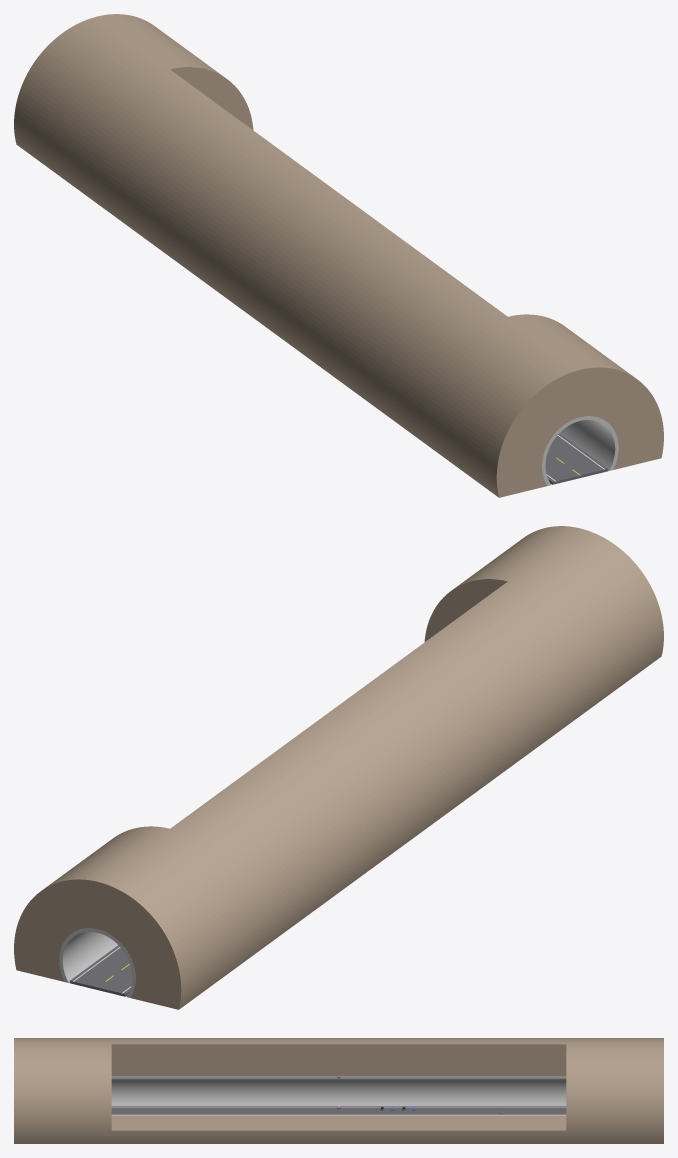
The model's file is tunnel.glb.
3 views of the same model, one above another, from view 1: azimuth 30°, elevation 25°; view 2: azimuth 150°, elevation 25°; view 3: azimuth 270°, elevation 25° (orthographic). The views are drawn at different scales.
Parts seen in each view (by area): view 1: 围岩, 衬砌环, 路面; view 2: 围岩, 衬砌环, 路面; view 3: 围岩, 衬砌环, 路面, 边线标线.
Part boxes in pixels (x1,y1,x2,y2): 围岩: (14,14,663,497); 衬砌环: (542,416,618,485); 路面: (545,433,608,484); 围岩: (14,526,663,1009); 衬砌环: (59,928,135,997); 路面: (69,945,132,996); 围岩: (14,1038,663,1143); 衬砌环: (111,1076,566,1115); 路面: (111,1106,566,1114); 边线标线: (112,1107,565,1107).
Size of the model in its own units: 24 by 14.85 by 120.
